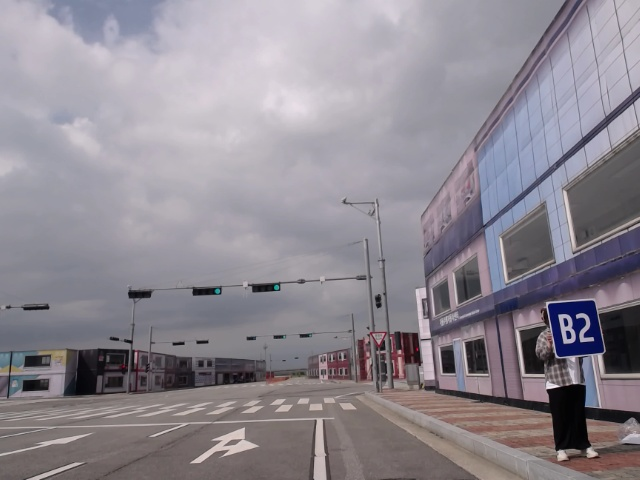delivery_b2: (544, 300, 608, 359)
straight_green_4: (191, 284, 223, 297), (250, 283, 281, 294), (298, 333, 315, 339), (272, 334, 288, 340)
